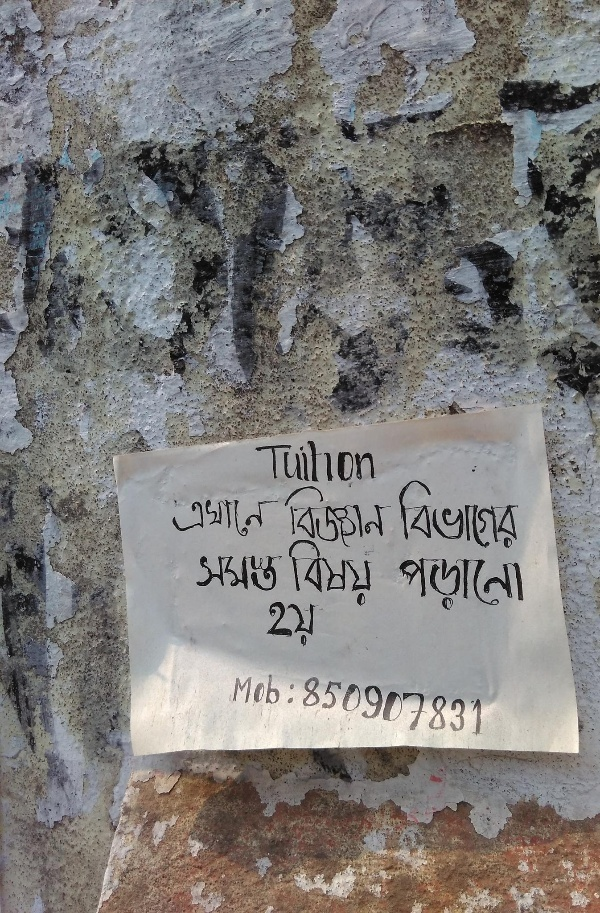text: (289, 483, 304, 556), (305, 483, 320, 556), (321, 483, 336, 556), (337, 483, 352, 556), (353, 483, 368, 556), (369, 483, 384, 556), (385, 483, 400, 556), (401, 479, 416, 552), (417, 479, 432, 552), (433, 479, 448, 552), (449, 479, 464, 552), (465, 479, 480, 552), (481, 479, 496, 552), (497, 479, 512, 552), (289, 536, 304, 608), (305, 536, 320, 608), (321, 536, 336, 608), (337, 536, 352, 608), (353, 536, 368, 608), (321, 675, 336, 741), (337, 675, 352, 741), (353, 675, 368, 741), (369, 675, 384, 741), (385, 675, 400, 741), (401, 675, 416, 741), (417, 675, 432, 741), (433, 675, 448, 741), (449, 675, 464, 741), (465, 675, 480, 741), (513, 479, 526, 552), (306, 675, 320, 741), (257, 432, 272, 488), (273, 432, 288, 488), (289, 432, 304, 488), (305, 432, 320, 488), (321, 432, 336, 488), (337, 432, 352, 488), (353, 432, 368, 488), (401, 557, 416, 612), (417, 557, 432, 612), (433, 557, 448, 612), (449, 557, 464, 612), (465, 557, 480, 612), (481, 557, 496, 612), (497, 557, 512, 612), (369, 432, 383, 488), (177, 492, 192, 541), (193, 492, 208, 541), (209, 492, 224, 541), (225, 492, 240, 541), (241, 492, 256, 541), (257, 492, 272, 541), (513, 557, 526, 612), (273, 601, 288, 647), (289, 601, 304, 647), (369, 536, 378, 608), (305, 601, 319, 647), (193, 553, 208, 593), (209, 553, 224, 593), (225, 553, 240, 593), (241, 553, 256, 593), (257, 553, 272, 593), (241, 669, 256, 709), (257, 669, 272, 709), (273, 669, 288, 709), (273, 492, 283, 541), (289, 669, 301, 709), (167, 492, 176, 541), (282, 483, 288, 556), (273, 553, 283, 593), (481, 675, 486, 741), (396, 479, 400, 552), (266, 601, 272, 647), (401, 483, 404, 556), (235, 669, 240, 709), (397, 557, 400, 612), (286, 536, 288, 608), (255, 432, 256, 488)
